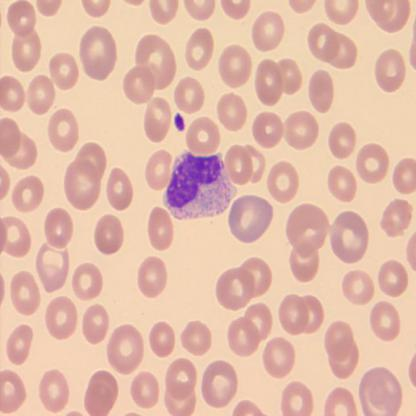Metamyelocyte: (160, 147, 238, 222)
